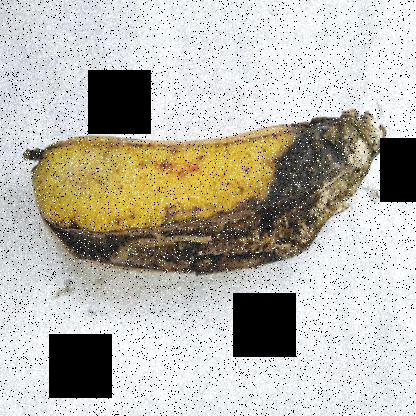rotten: (46, 102, 396, 302)
